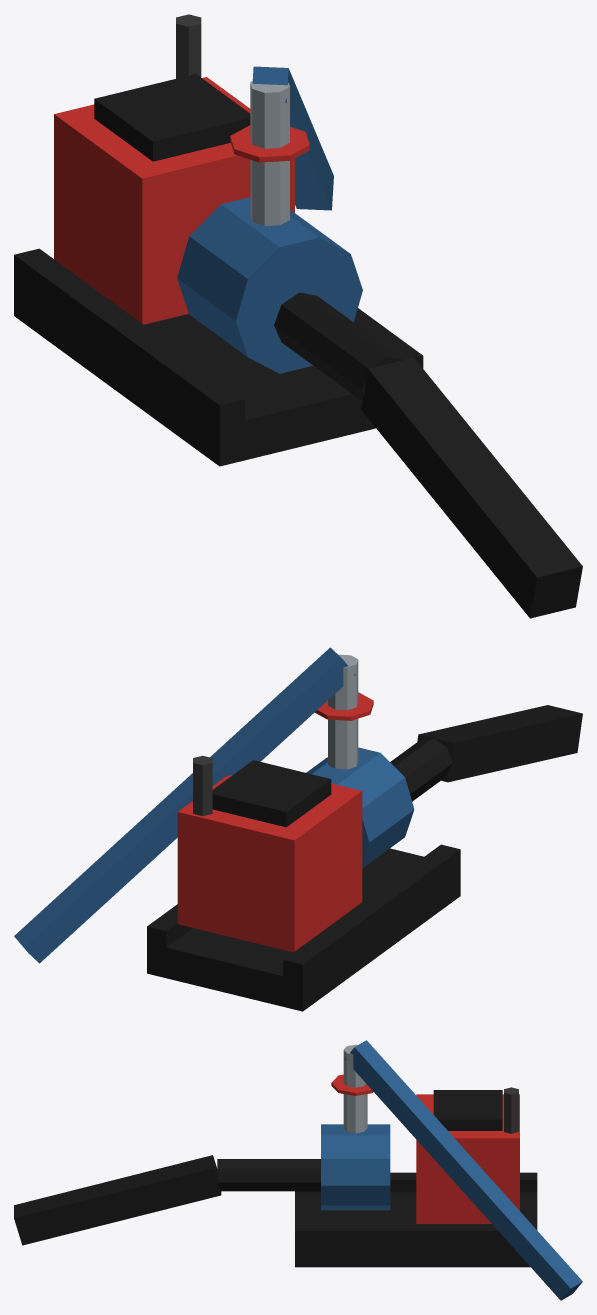
The model's file is Mining_WaterPump.fbx.
3 views of the same model, one above another, from view 1: azimuth 30°, elevation 25°; view 2: azimuth 150°, elevation 25°; view 3: azimuth 270°, elevation 25° (orthographic). The views are drawn at different scales.
Visible parts, largest first — view 1: Mining_WaterPump; view 2: Mining_WaterPump; view 3: Mining_WaterPump.
Part boxes in pixels (left/top/right/bottom): Mining_WaterPump: left=14, top=14, right=582, bottom=618; Mining_WaterPump: left=14, top=647, right=582, bottom=1011; Mining_WaterPump: left=14, top=1040, right=582, bottom=1300.
Bounding box in the file's own units: 1.37 × 1.26 × 3.29.
